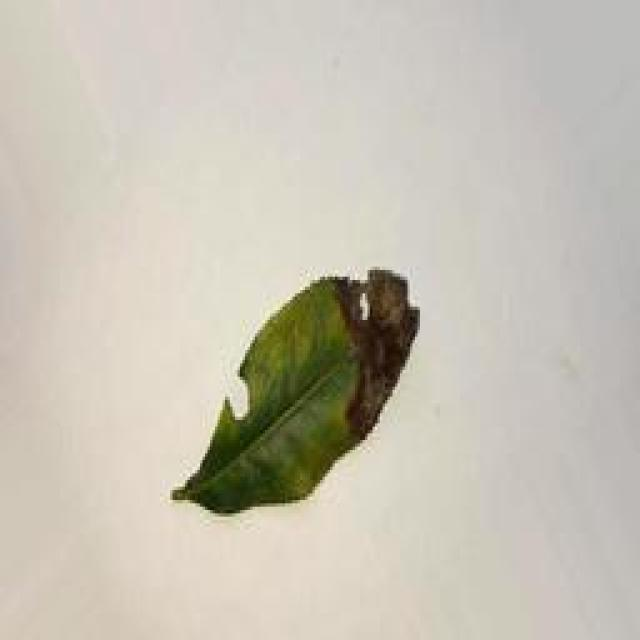Brown Blight: (159, 252, 431, 522)
